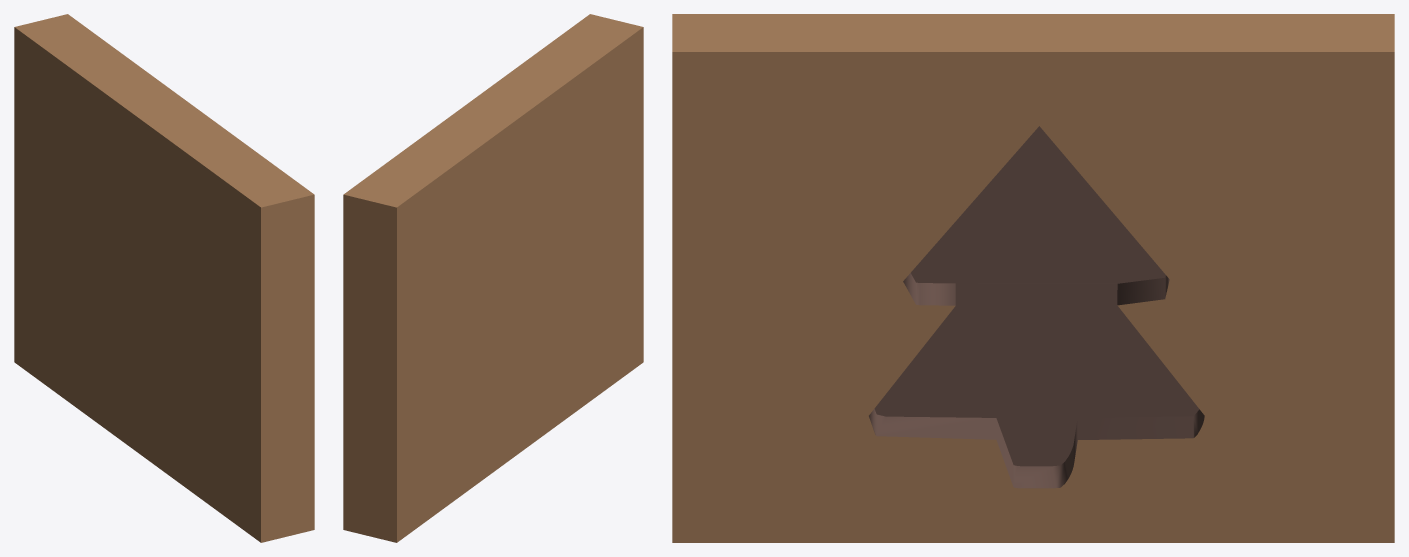
The model's file is SignWoodlands.glb.
3 views of the same model, side by side, from view 1: azimuth 30°, elevation 25°; view 2: azimuth 150°, elevation 25°; view 3: azimuth 270°, elevation 25° (orthographic). The views are drawn at different scales.
Visible parts, largest first — view 1: Cube; view 2: Cube; view 3: Cube.
Boxes of the visible parts, x1,y1,x2,y2 form: Cube: [14, 14, 314, 542]; Cube: [343, 14, 643, 542]; Cube: [672, 14, 1394, 542].
Size of the model in its own units: 0.2 by 1.2 by 1.6.
